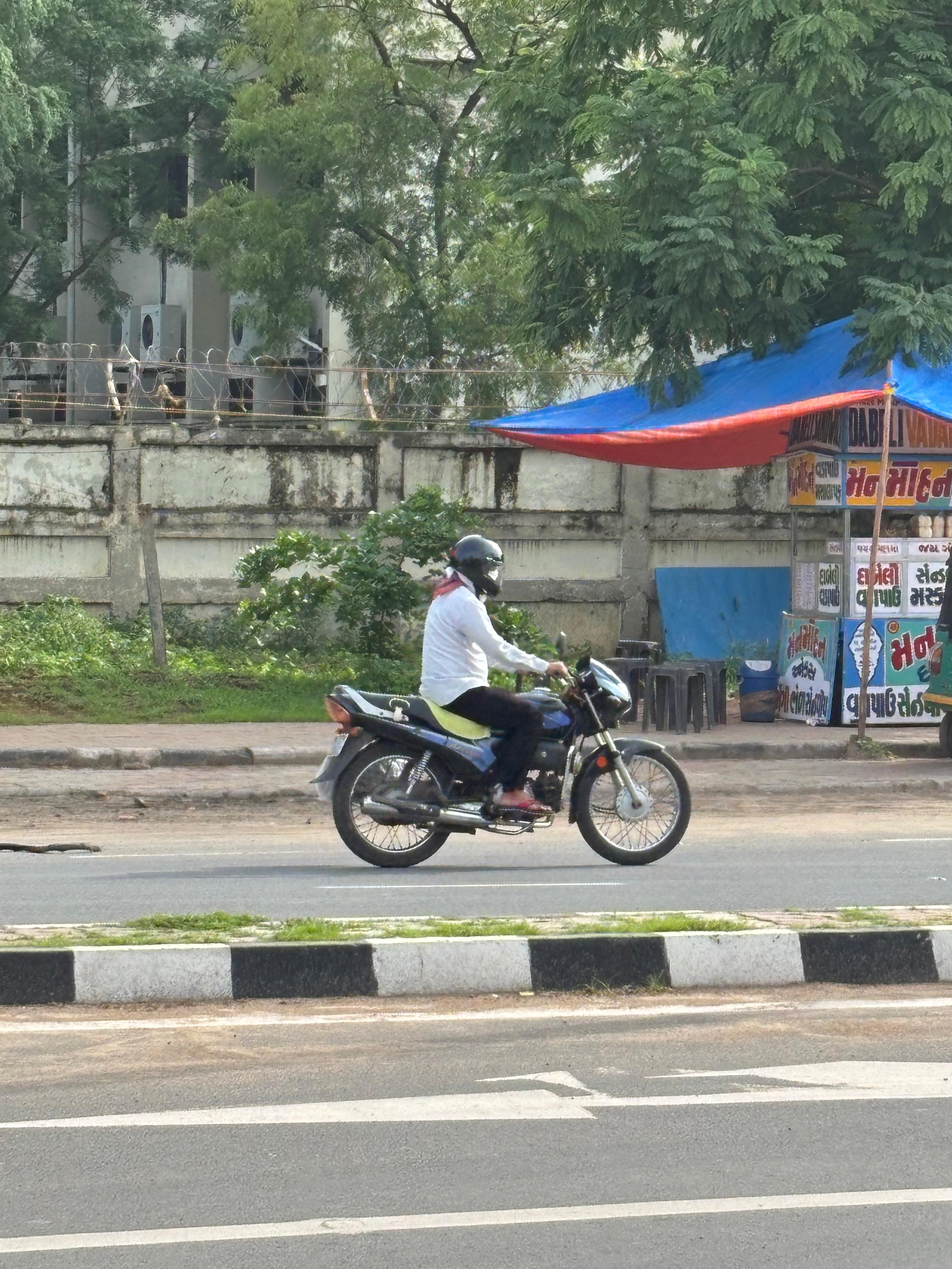BikeWithRider: (307, 532, 694, 874)
Helmet: (444, 534, 505, 598)
